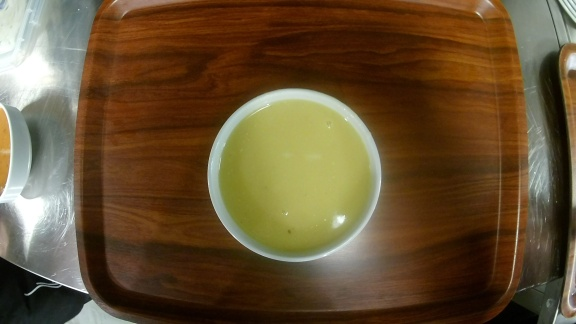mercimek: (205, 85, 384, 265)
